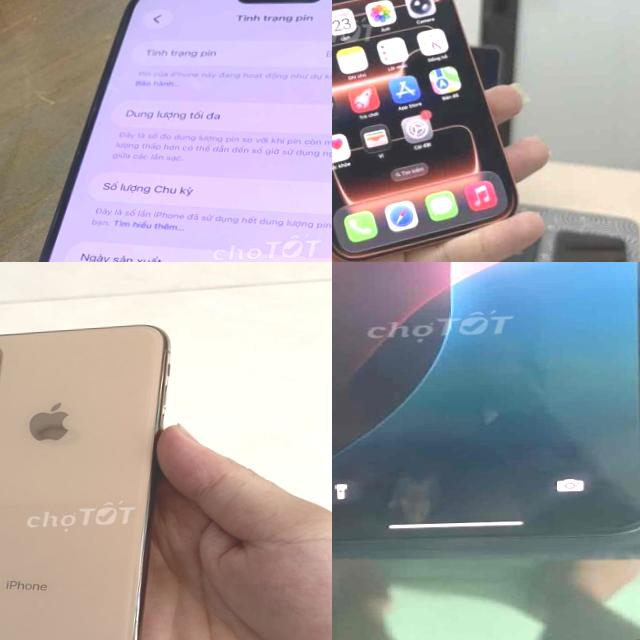gen_11: (332, 262, 640, 559)
gen_15: (0, 0, 332, 262)
gen_17: (332, 0, 532, 262)
gen_x_xs: (0, 325, 168, 640)
